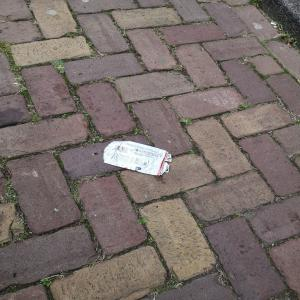Can: (100, 138, 179, 181)
